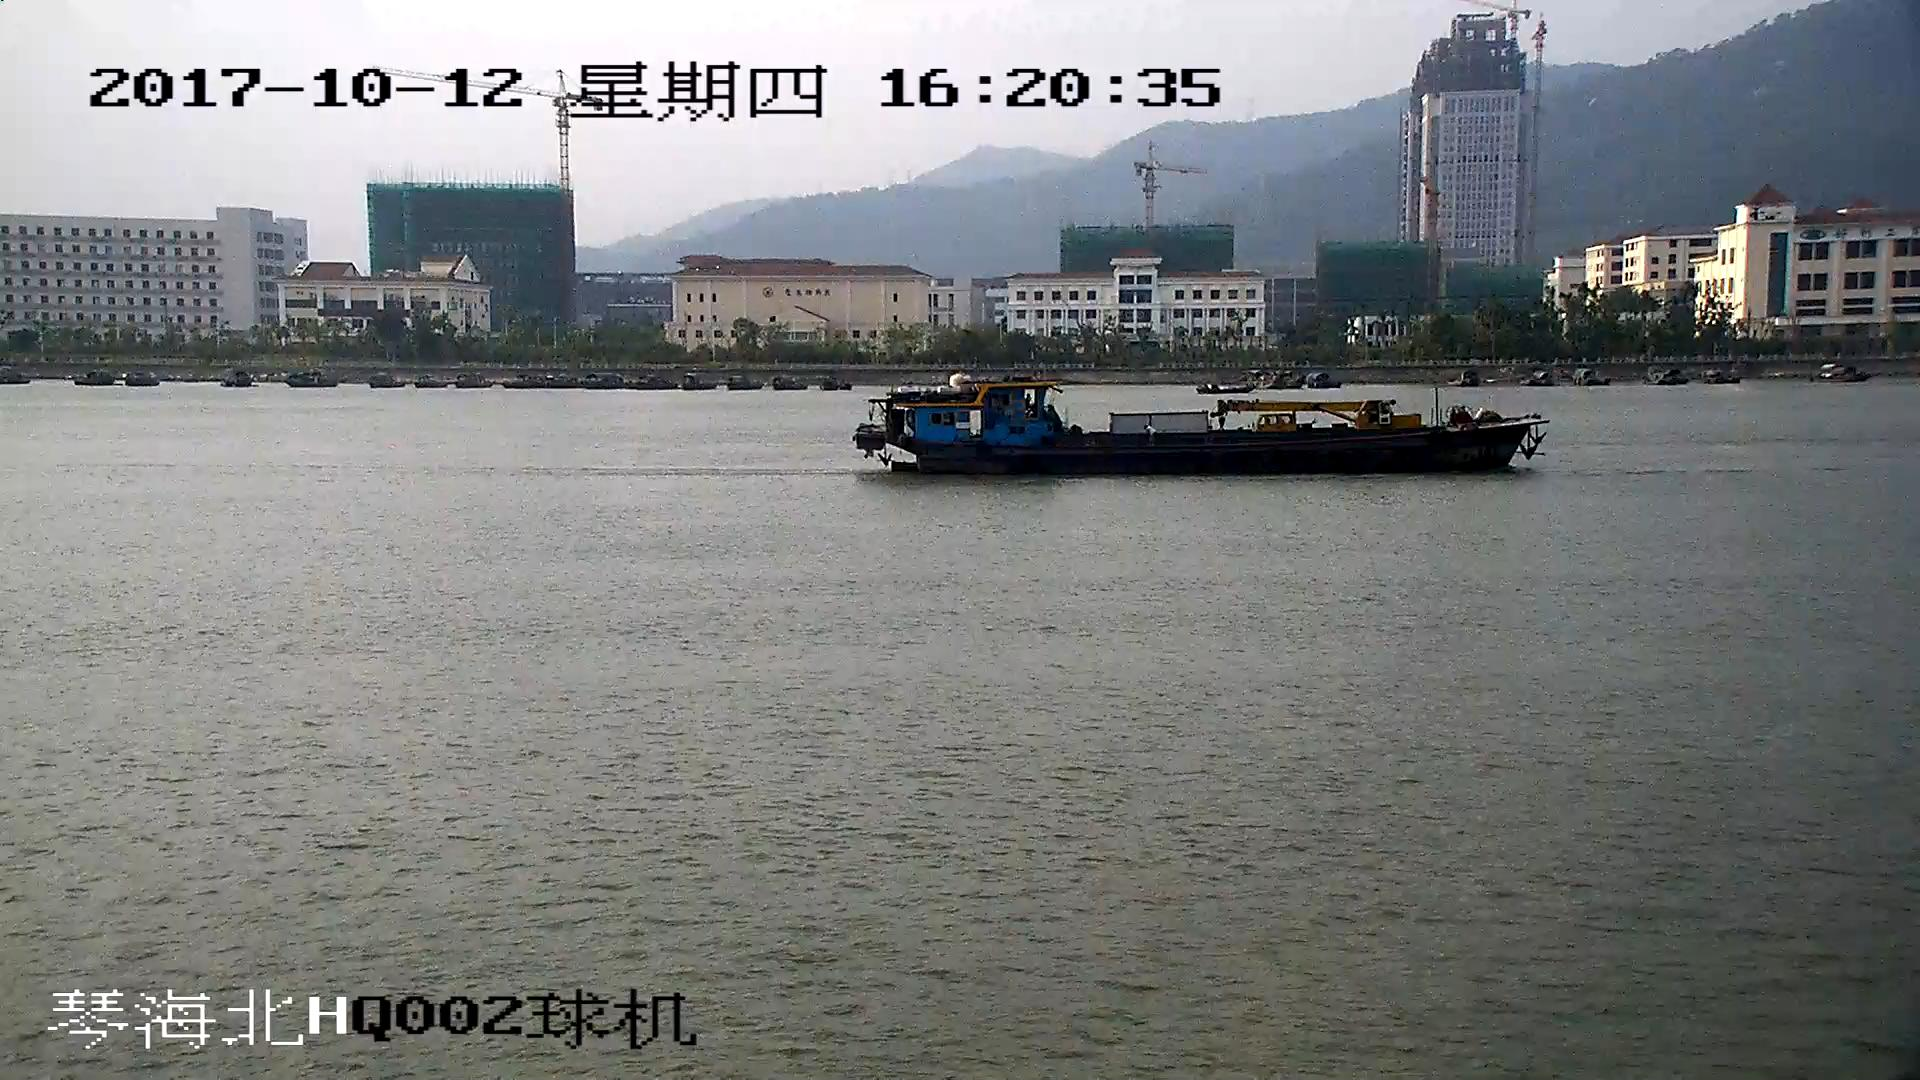fishing boat: (853, 381, 1544, 479)
